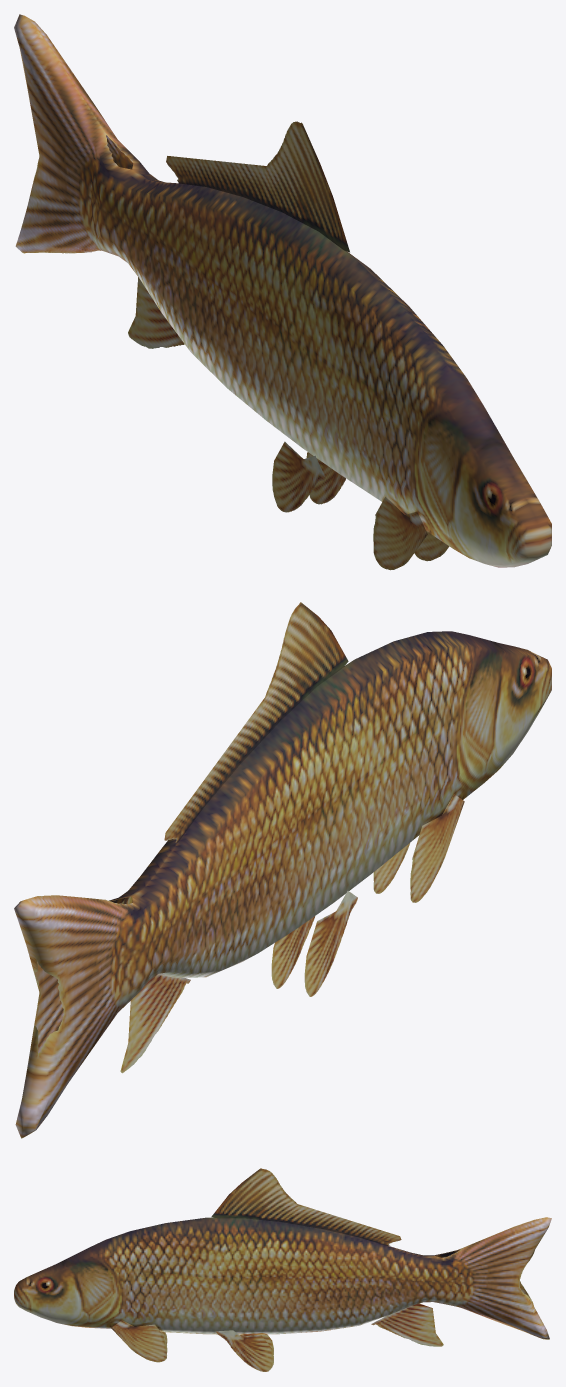
File: fish-2.obj
The picture shows the model from 3 angles, top to bottom: view 1: azimuth 30°, elevation 25°; view 2: azimuth 150°, elevation 25°; view 3: azimuth 270°, elevation 25°; orthographic projection. The views are drawn at different scales.
Parts seen in each view (by area): view 1: fish_Cube; view 2: fish_Cube; view 3: fish_Cube.
Part boxes in pixels (x1,y1,x2,y2): fish_Cube: (14,14,551,570); fish_Cube: (14,602,551,1138); fish_Cube: (14,1168,551,1371).
Size of the model in its own units: 0.2435 by 2.09 by 5.06.
Materials: 1 (1 with a texture image).
